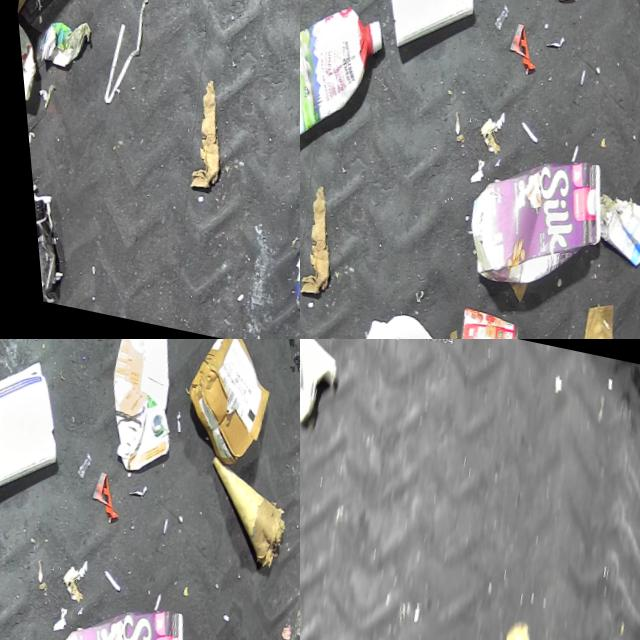can: (435, 304, 519, 339), (272, 229, 300, 323), (13, 18, 40, 107)
milk_jug: (327, 305, 472, 339)
non_white_jug: (446, 140, 612, 304), (88, 339, 198, 476), (300, 0, 392, 156), (29, 587, 194, 640)
